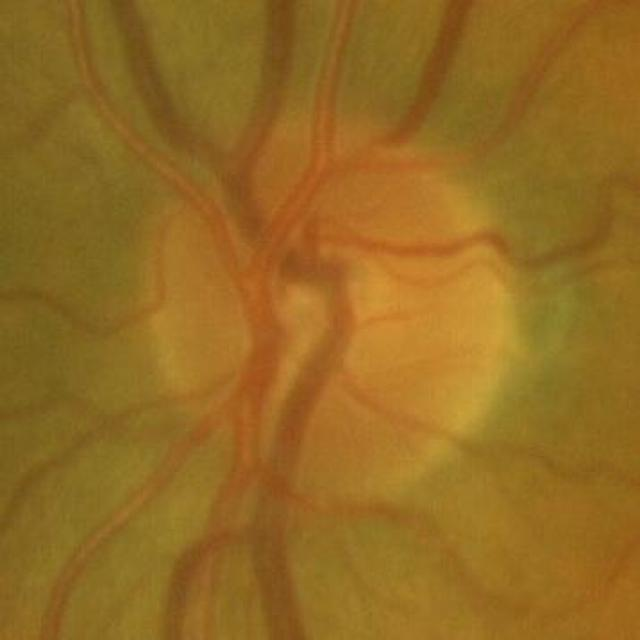OC: (260, 233, 406, 375)
OD: (146, 119, 523, 509)
